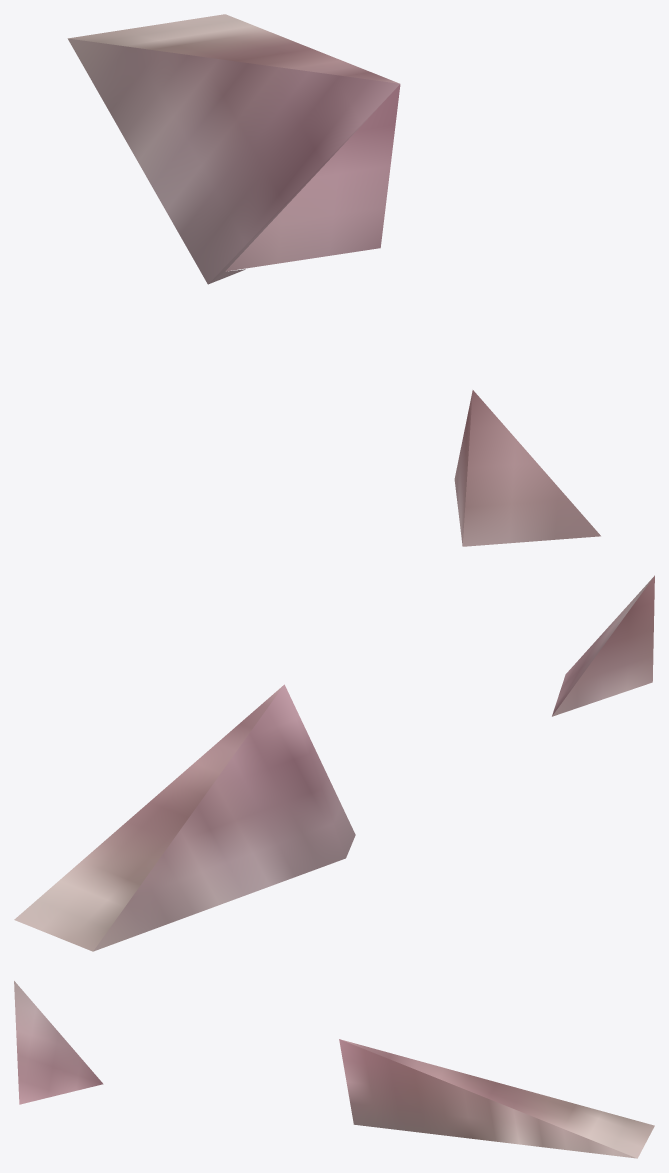
The picture shows the model from 3 angles, top to bottom: view 1: azimuth 30°, elevation 25°; view 2: azimuth 150°, elevation 25°; view 3: azimuth 270°, elevation 25°; orthographic projection. The views are drawn at different scales.
Visible parts, largest first — view 1: Mesh_0; view 2: Mesh_0; view 3: Mesh_0.
Boxes of the visible parts, x1,y1,x2,y2 form: Mesh_0: [67, 14, 600, 546]; Mesh_0: [14, 575, 654, 951]; Mesh_0: [14, 981, 654, 1158].
Bounding box in the file's own units: 5.21 × 2.64 × 15.24.
Materials: 1 (1 with a texture image).
